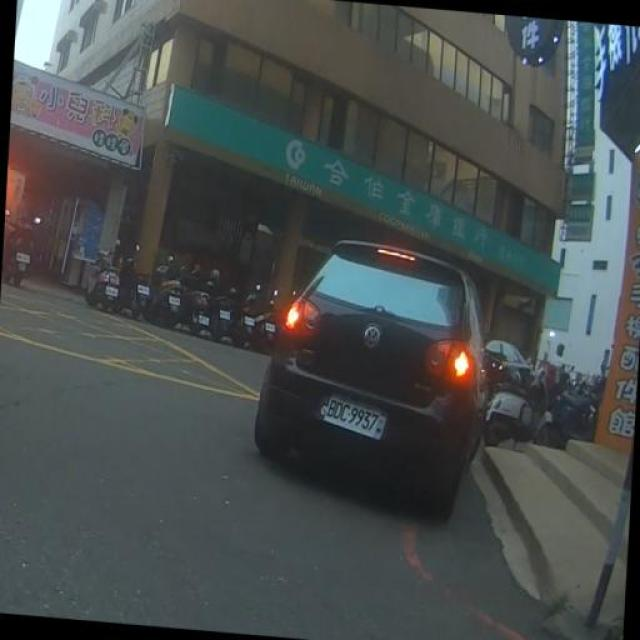illegalparking: (232, 208, 552, 580)
